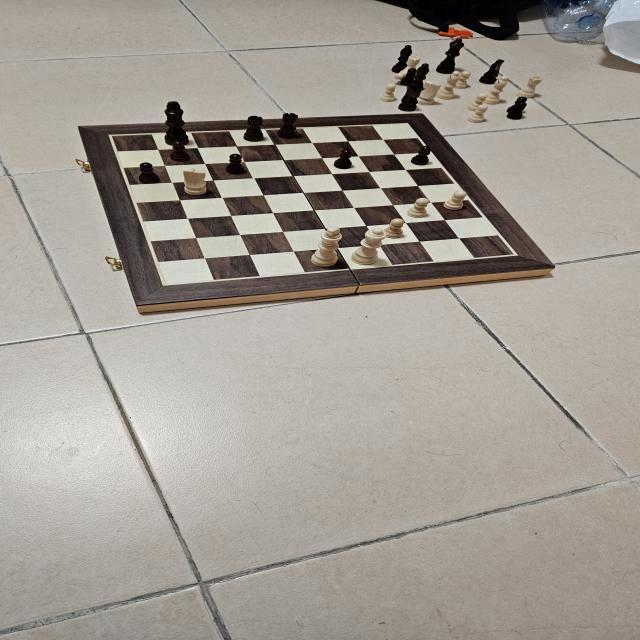chess-table-corners: (157, 280, 173, 287), (104, 133, 118, 138), (510, 251, 520, 257), (401, 122, 411, 126)
